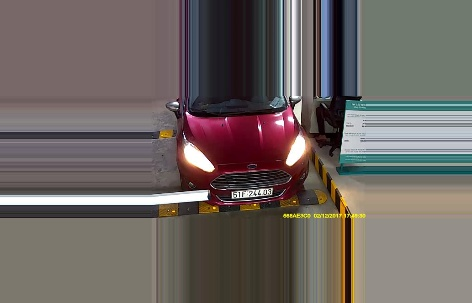plate: (231, 188, 271, 198)
